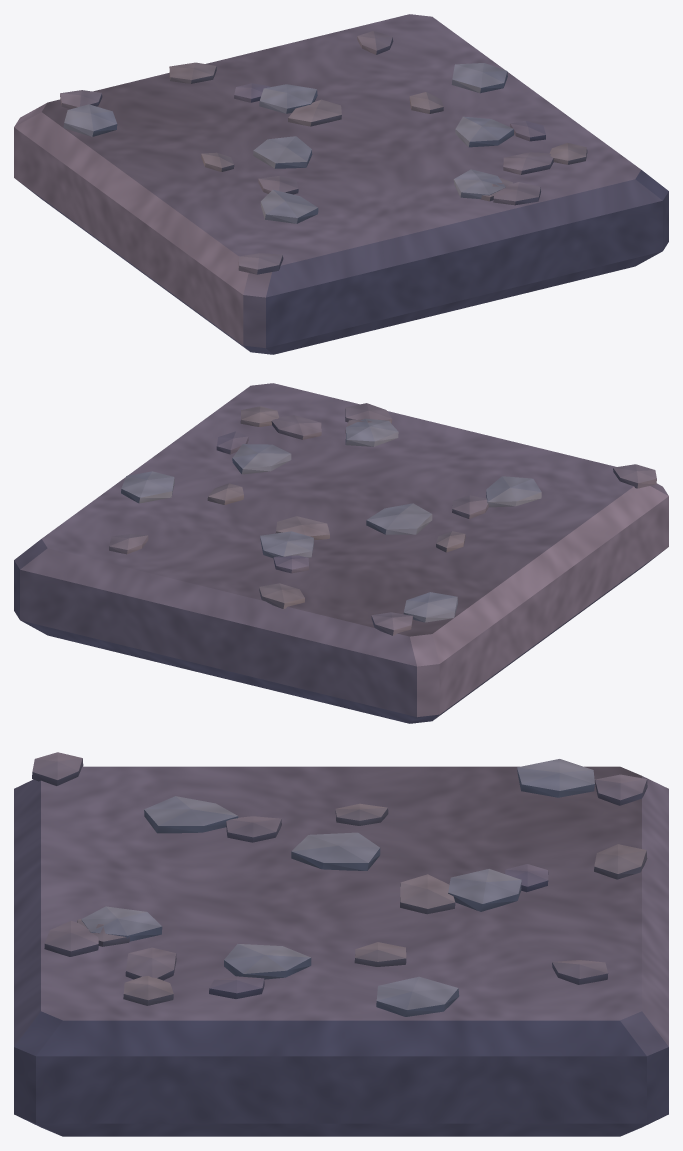
The model's file is mine_deep_floor.glb.
3 views of the same model, one above another, from view 1: azimuth 30°, elevation 25°; view 2: azimuth 150°, elevation 25°; view 3: azimuth 270°, elevation 25° (orthographic). The views are drawn at different scales.
Parts seen in each view (by area): view 1: Tiefe Mine · Minensohle · polygonales Gestein; view 2: Tiefe Mine · Minensohle · polygonales Gestein; view 3: Tiefe Mine · Minensohle · polygonales Gestein.
Boxes of the visible parts, x1,y1,x2,y2 form: Tiefe Mine · Minensohle · polygonales Gestein: (14,14,668,354); Tiefe Mine · Minensohle · polygonales Gestein: (14,383,668,723); Tiefe Mine · Minensohle · polygonales Gestein: (14,752,668,1136).
Bounding box in the file's own units: 2.4 × 0.515 × 2.4.
1 material, 1 textured.
